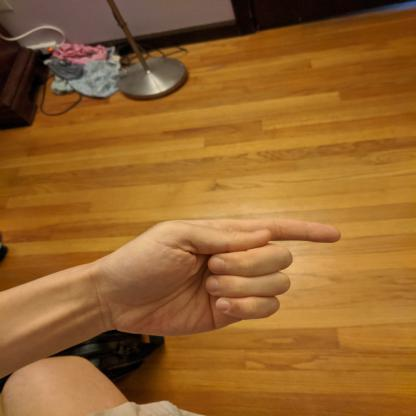G: (106, 214, 345, 340)
